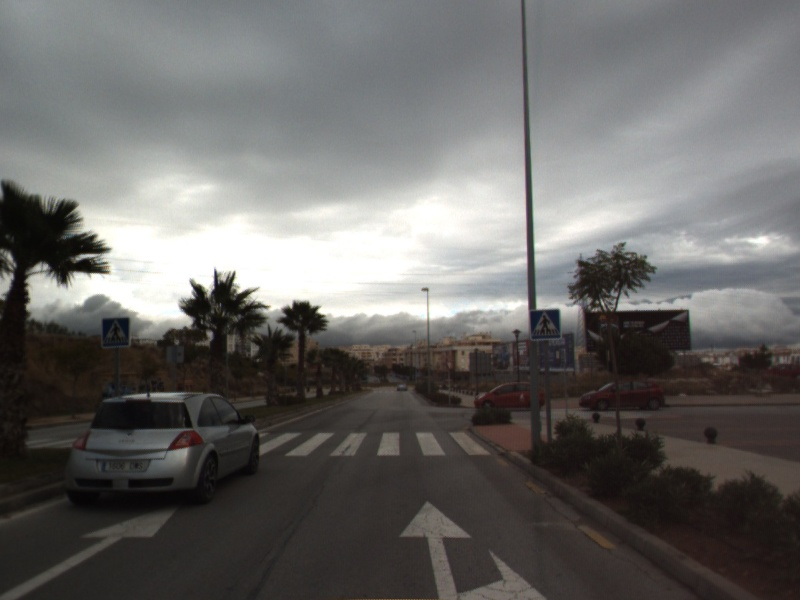STRAIGHT: (1, 500, 184, 600)
STRAIGHT_RIGHT: (397, 498, 551, 600)
